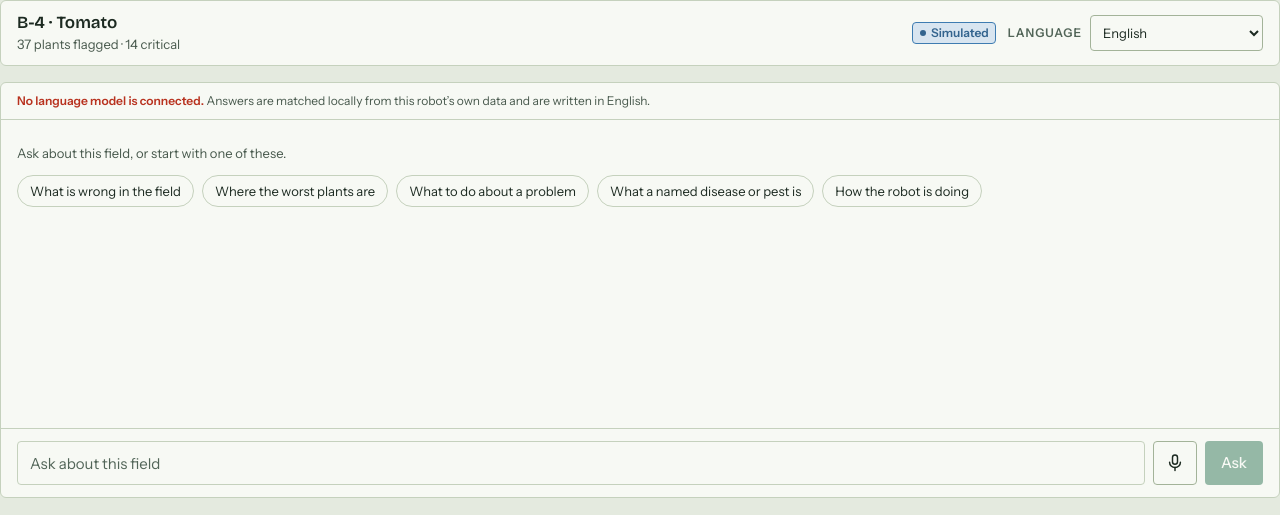
Test: ChatWorkspace › prints where each answer came from, so a number can be checked
Type "where" into the field labelled "Ask about this field" at (581, 463), box [17,441,1145,485]
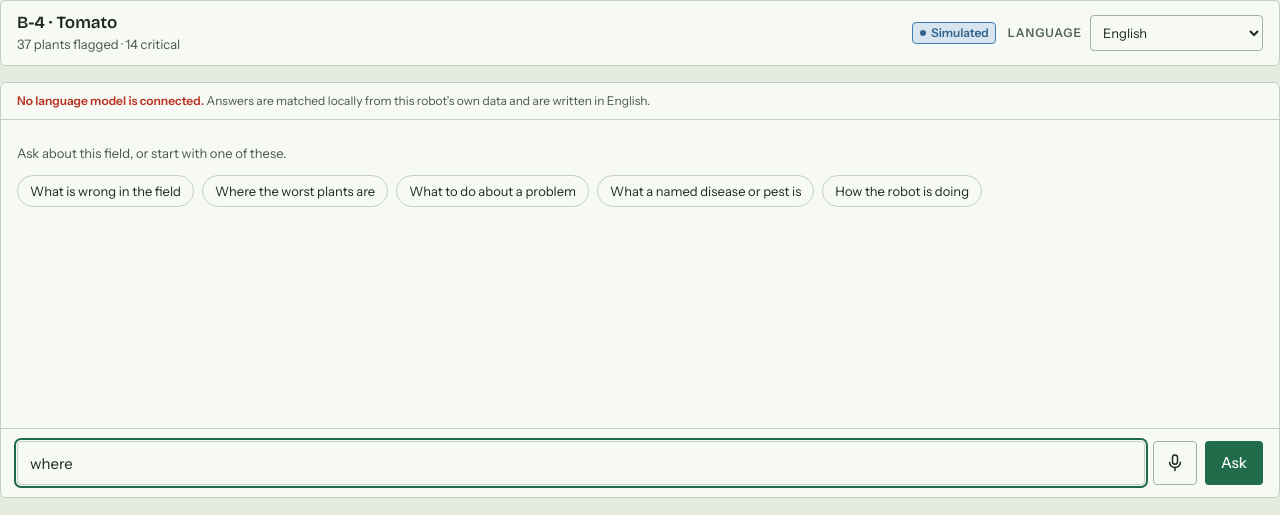
Click the button "Ask" at (1234, 463), box [1205,441,1263,485]
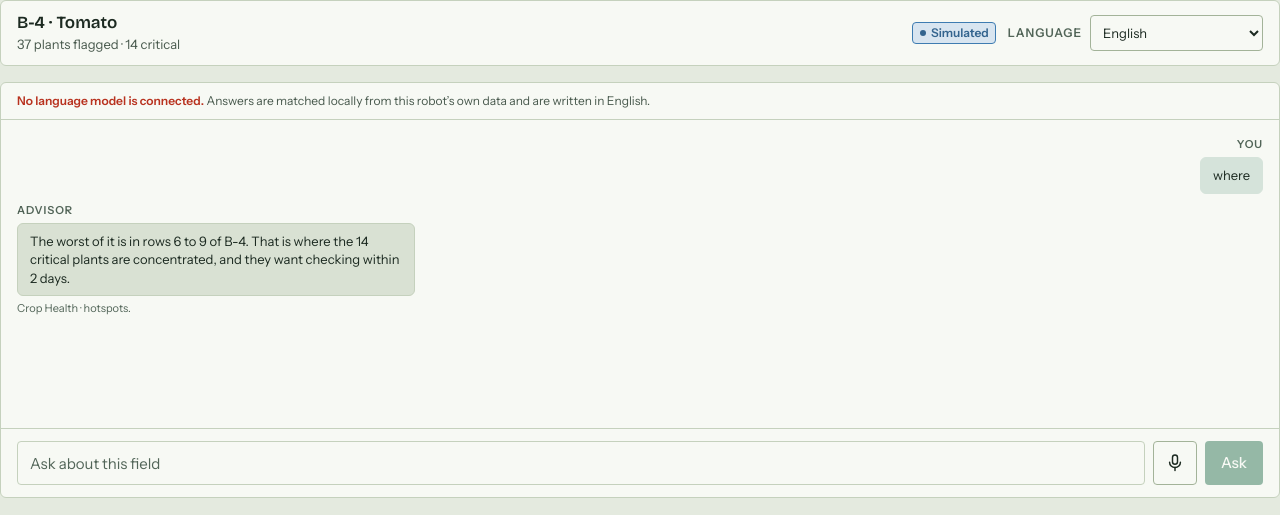
Expected: the text "Crop Health · hotspots." is shown, [17,302,131,316]
